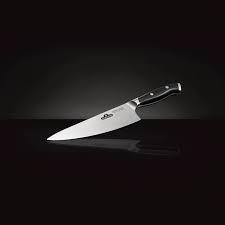Knife: (46, 81, 182, 141)
